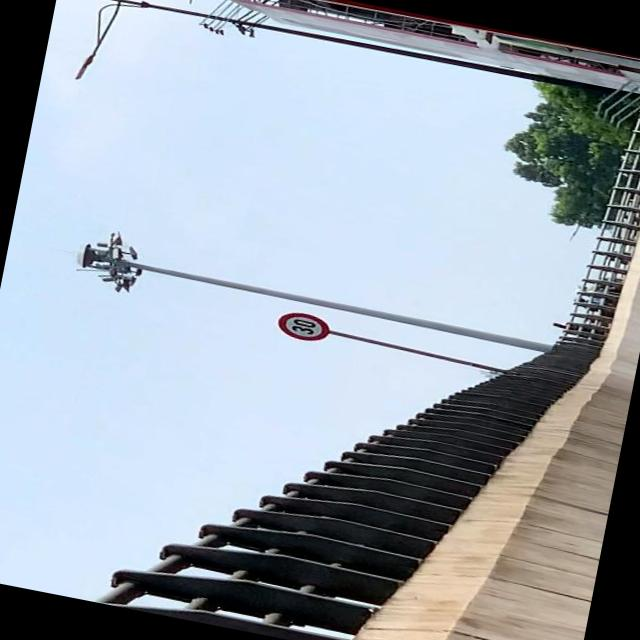P-127: (276, 308, 331, 342)
